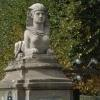Statue: (12, 2, 58, 63)
